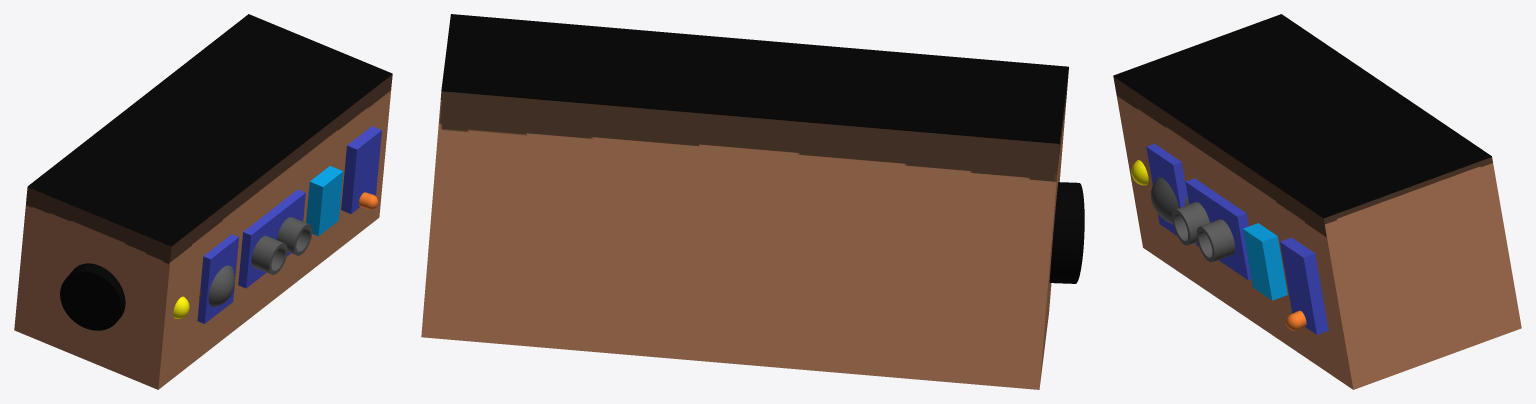
Rendered from sensors.glb.
3 views of the same model, side by side, from view 1: azimuth 30°, elevation 25°; view 2: azimuth 150°, elevation 25°; view 3: azimuth 270°, elevation 25° (orthographic). The views are drawn at different scales.
Visible parts, largest first — view 1: mesh_id35, mesh_id46, mesh_id74, mesh_id62, mesh_id72, mesh_id56, mesh_id64, mesh_id70, mesh_id58; view 2: mesh_id35, mesh_id46; view 3: mesh_id35, mesh_id74, mesh_id72, mesh_id62, mesh_id56, mesh_id70, mesh_id64, mesh_id58.
Boxes of the visible parts, <box> form: mesh_id35: <box>14,14,392,389</box>; mesh_id46: <box>60,263,125,330</box>; mesh_id74: <box>341,126,381,213</box>; mesh_id62: <box>238,189,305,288</box>; mesh_id72: <box>306,166,343,236</box>; mesh_id56: <box>197,234,238,323</box>; mesh_id64: <box>251,235,287,274</box>; mesh_id70: <box>276,217,312,255</box>; mesh_id58: <box>199,265,234,307</box>; mesh_id35: <box>421,14,1068,389</box>; mesh_id46: <box>1049,182,1084,283</box>; mesh_id35: <box>1113,14,1521,389</box>; mesh_id74: <box>1280,237,1328,334</box>; mesh_id72: <box>1243,223,1287,300</box>; mesh_id62: <box>1185,178,1251,280</box>; mesh_id56: <box>1146,143,1187,235</box>; mesh_id70: <box>1196,219,1235,262</box>; mesh_id64: <box>1172,202,1209,245</box>; mesh_id58: <box>1151,177,1188,224</box>.
Size of the model in its own units: 0.2976 by 0.1495 by 0.2449.
Materials: 10 (10 with a texture image).
